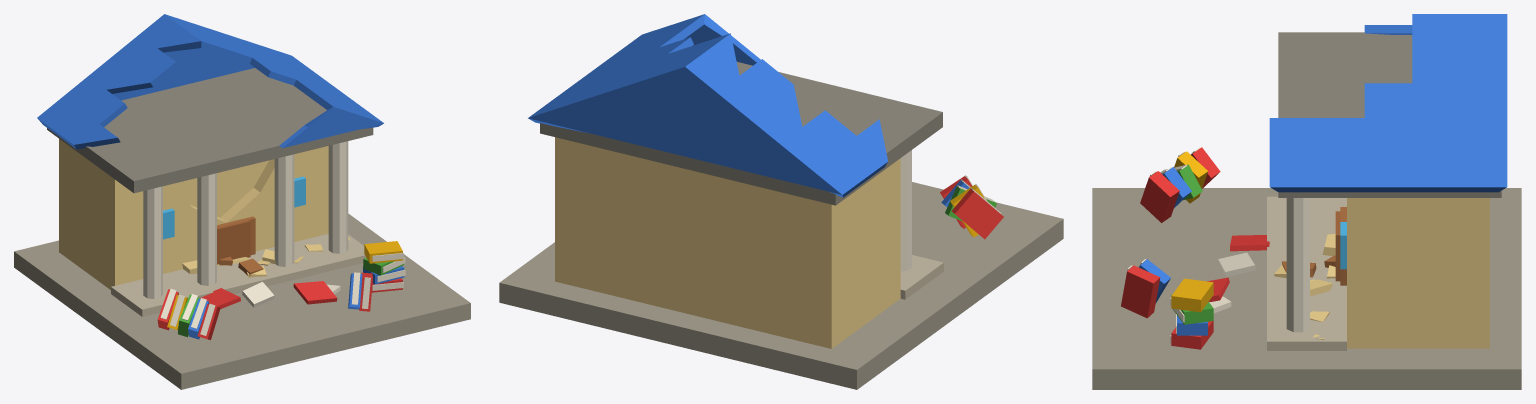
File: library_t2_v1_dmg1.glb
The picture shows the model from 3 angles, left to right: view 1: azimuth 30°, elevation 25°; view 2: azimuth 150°, elevation 25°; view 3: azimuth 270°, elevation 25°; orthographic projection. The views are drawn at different scales.
Parts seen in each view (by area): view 1: library_t2_v1_dmg1; view 2: library_t2_v1_dmg1; view 3: library_t2_v1_dmg1.
Part boxes in pixels (x1,y1,x2,y2): library_t2_v1_dmg1: (14, 14, 470, 389); library_t2_v1_dmg1: (499, 14, 1063, 389); library_t2_v1_dmg1: (1092, 14, 1521, 389).
Bounding box in the file's own units: 0.75 × 0.55 × 0.75.
Materials: 1 (1 with a texture image).
